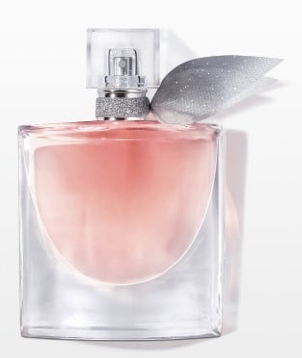lancome_la_vie_est_belle: (11, 25, 290, 346)
